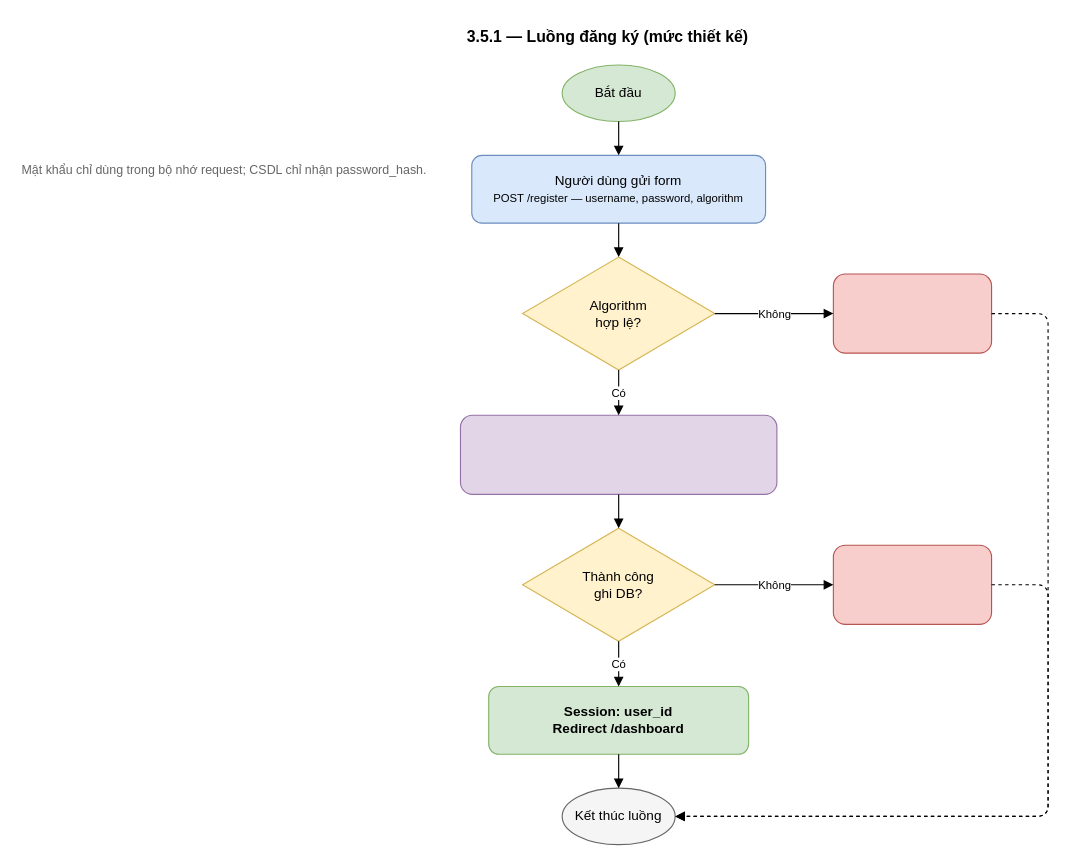
Some shapes in this 1077 by 864 pixel diagram are drawn without their labels. The centre of each missing label's shape, as x and y in pixels:
AuthError → flash Redirect /: the point at 912,584
Ghi flash lỗi Redirect /: the point at 912,313
register_user(db, …) Kiểm tra username, độ dài MK; hash_password; INSERT: the point at 618,454
